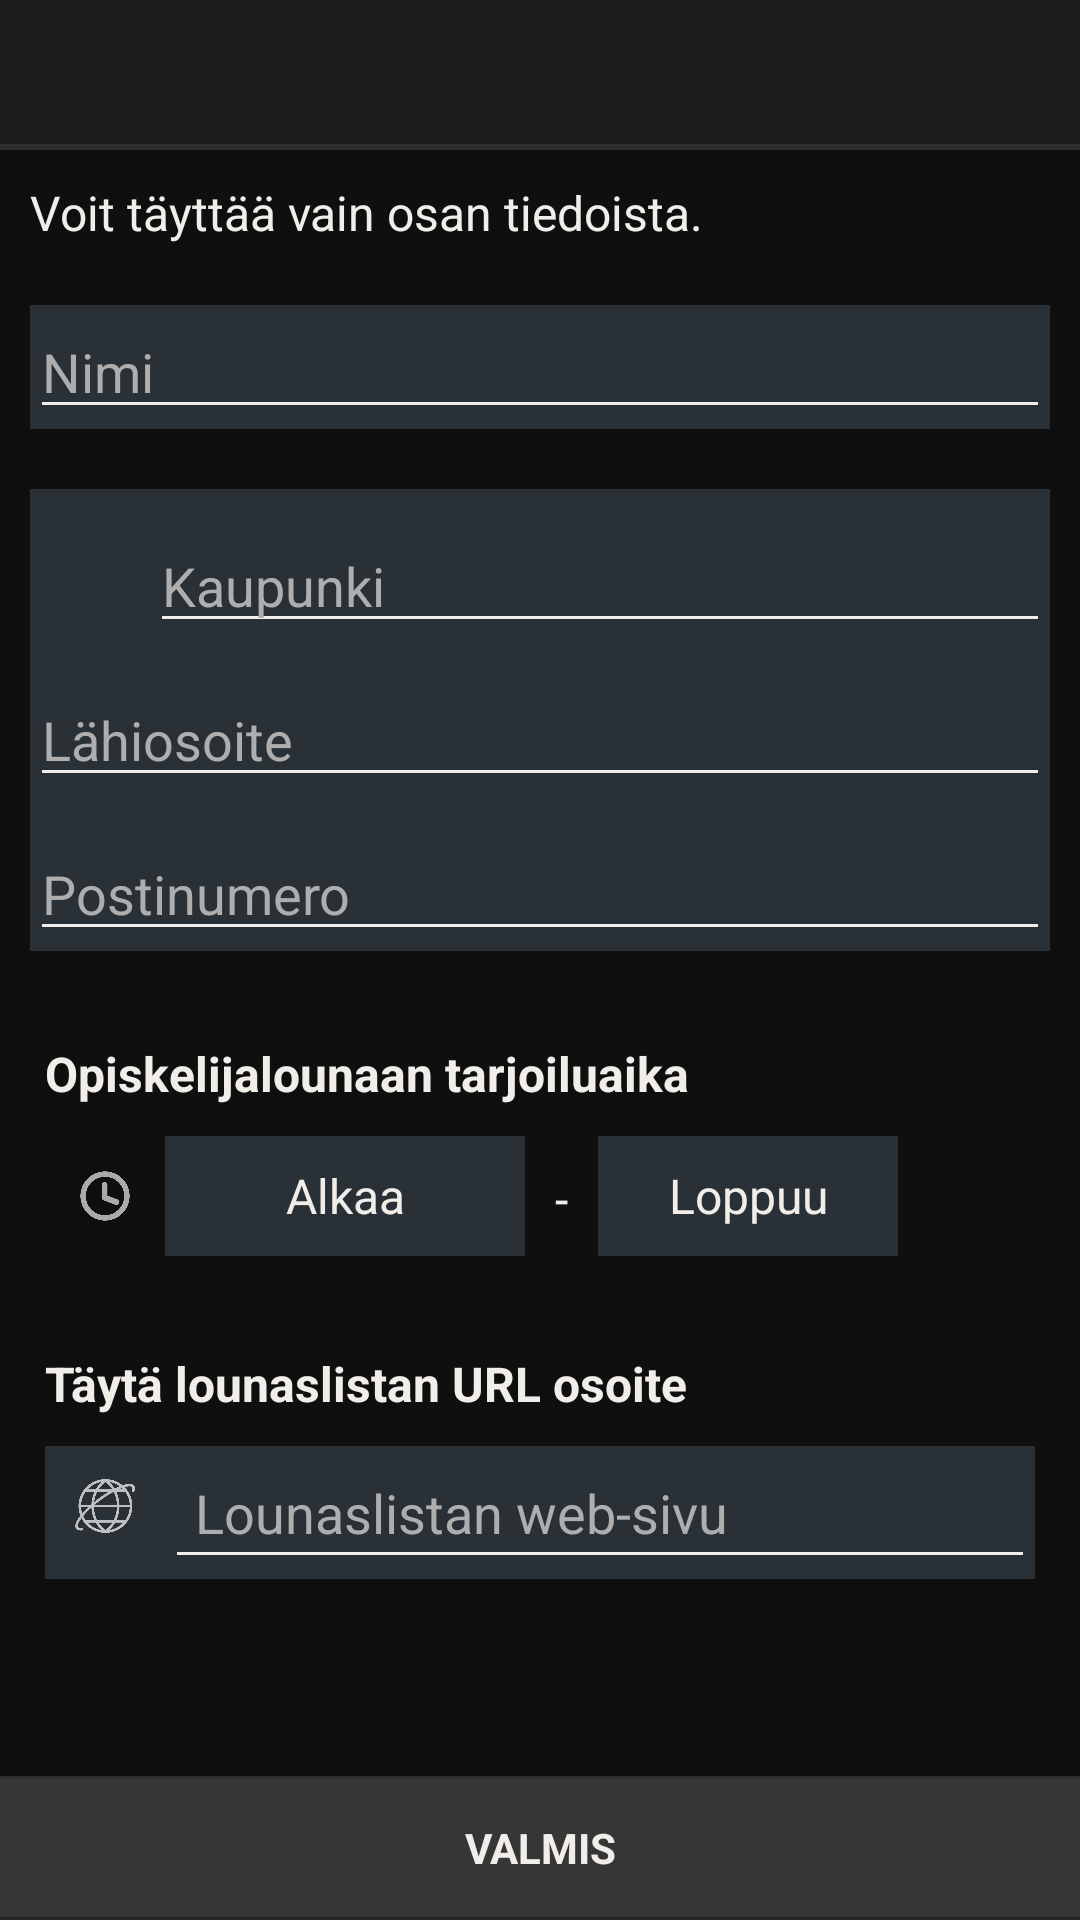

Where to tap for icons on this 1080 × 1920 app screen, as [x,y]:
clock: [105,1196]
internet: [105,1506]
